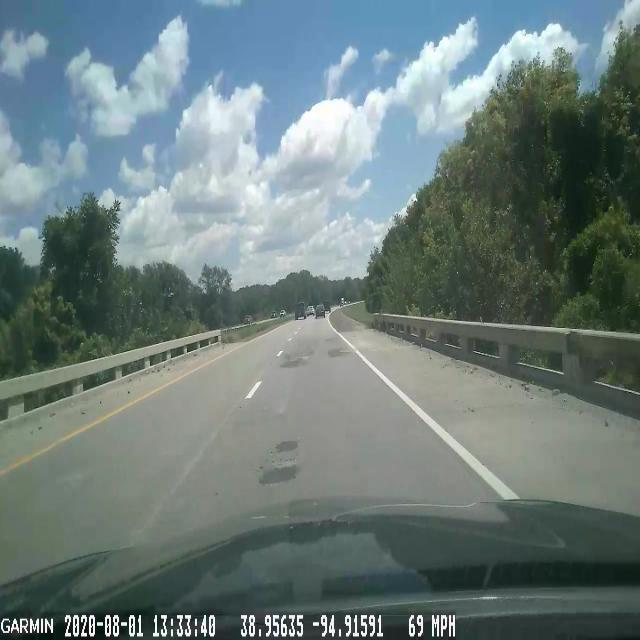pothole: (253, 450, 308, 492), (266, 431, 303, 459)
